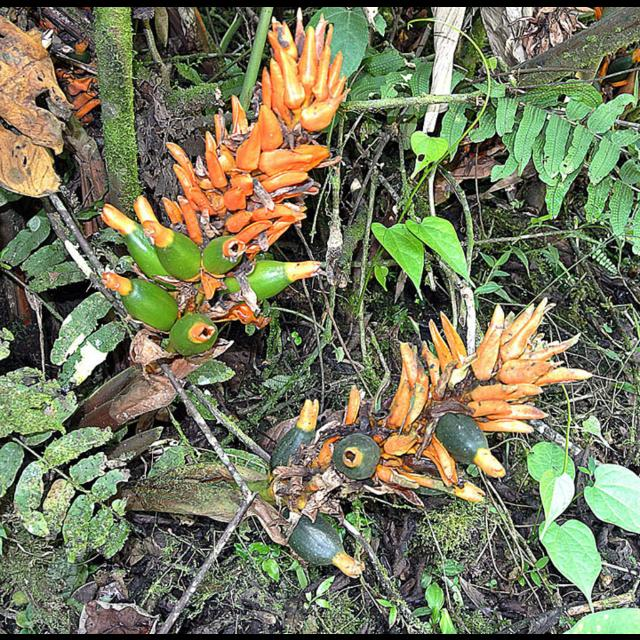Flower: (72, 8, 354, 350), (273, 296, 592, 576)
